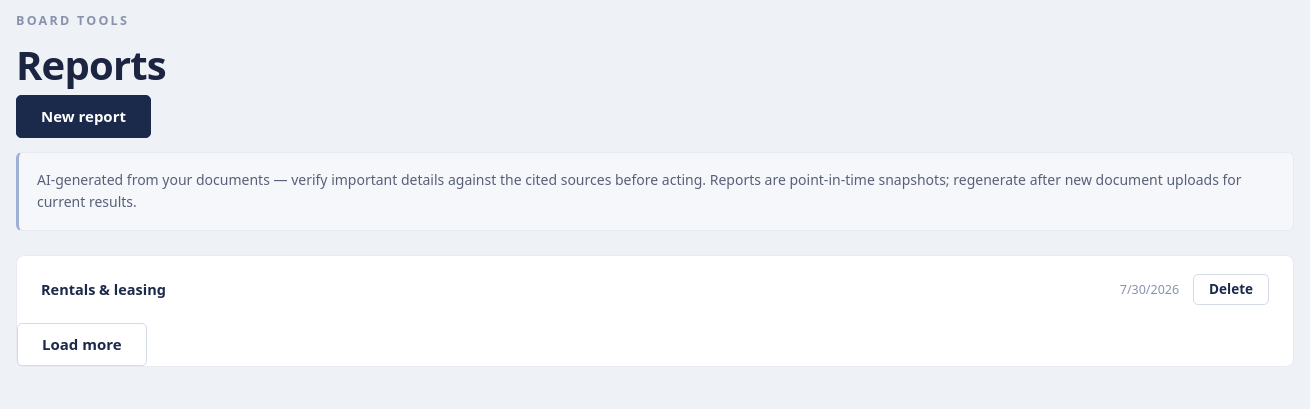
Test: ReportsManager › loads the next page of saved reports on demand
This screenshot has width=1310, height=409.
Click the button "Load more" at (82, 345), box [17, 323, 147, 366]
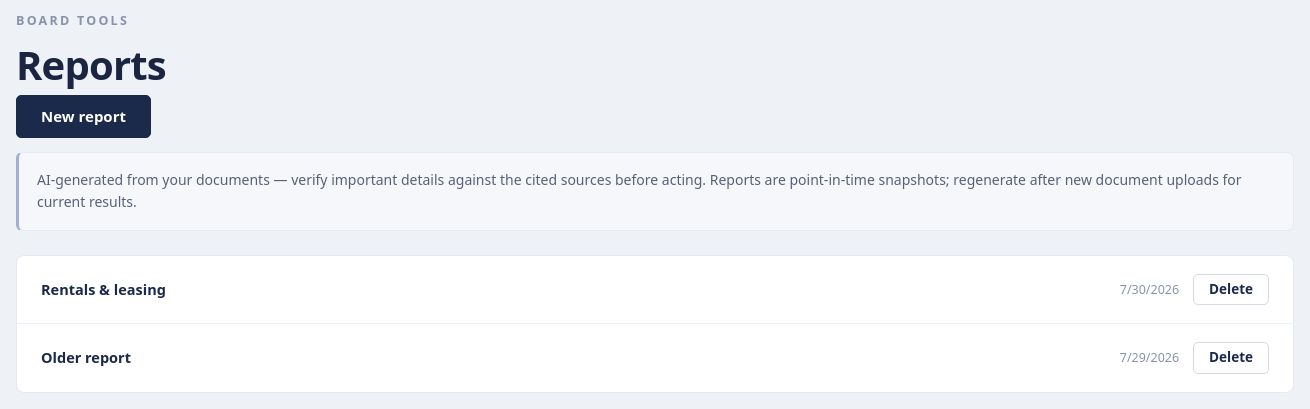
Result: the button "Older report" is shown at [41, 346, 131, 370]
Result: the button "Load more" is gone
